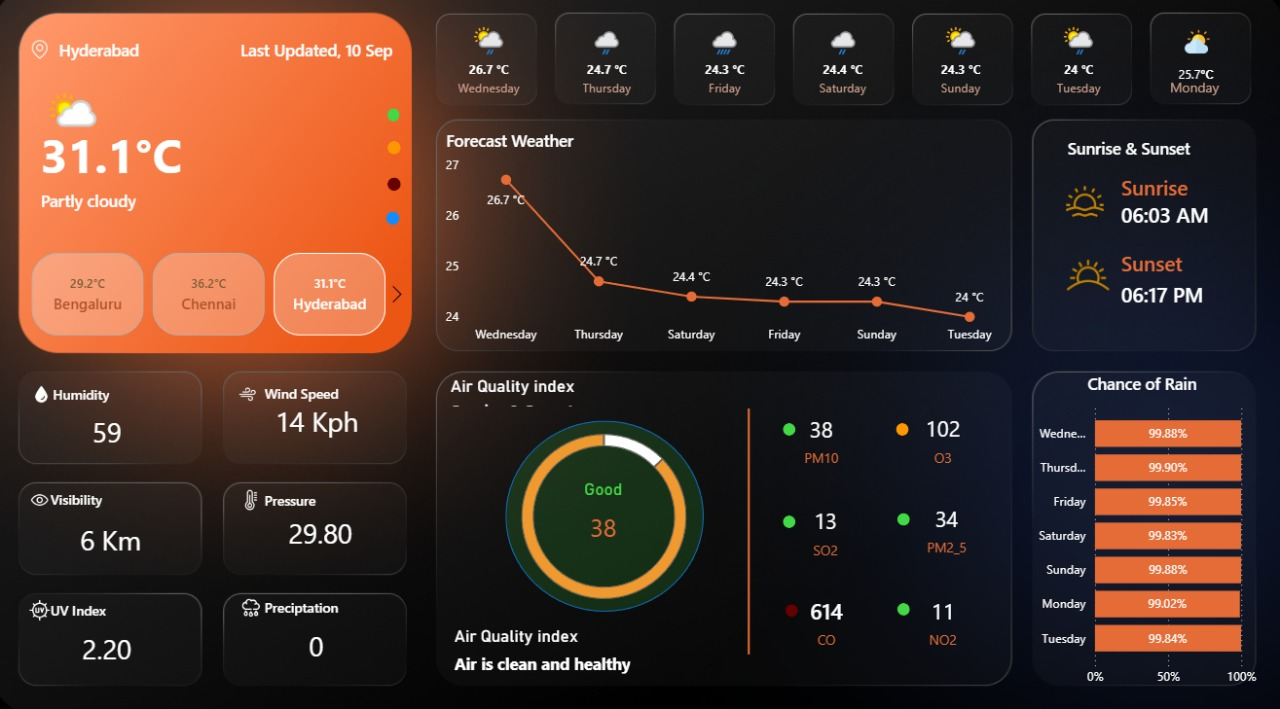

Layout of this report page (visuals, bound fields, positions):
{"tool":"powerbi","page":{"name":"Page 1","canvas":[1280,720],"ordinal":0},"visuals":[{"type":"shape","box":[507.7,426.8,196.6,189.7],"z":0},{"type":"advancedSlicerVisual","fields":{"Values":["Location.location.name"]},"box":[12.9,255.7,402.9,92.9],"z":1000},{"type":"shape","box":[47.1,111.4,201.4,102.9],"z":2000},{"type":"shape","box":[47.1,181.4,122.9,55.7],"z":3000},{"type":"shape","box":[65.7,31.4,104.3,55.7],"z":4000},{"type":"shape","box":[237.1,31.4,165.7,55.7],"z":5000},{"type":"image","box":[27.1,44.3,38.6,28.6],"z":6000},{"type":"cardVisual","fields":{"Data":["Min(Current.current.condition.icon)"]},"box":[26.5,73.6,106.2,102.5],"z":7000},{"type":"image","box":[12.1,491,67.6,30.2],"z":8000},{"type":"shape","box":[56.7,493.4,72.4,24.1],"z":9000},{"type":"shape","box":[56.7,602,103.8,25.3],"z":10000},{"type":"shape","box":[59.1,387.3,67.6,27.7],"z":11000},{"type":"shape","box":[269,387.3,89.3,25.3],"z":12000},{"type":"shape","box":[269,493.4,103.8,25.3],"z":13000},{"type":"shape","box":[269,599.6,103.8,25.3],"z":14000},{"type":"image","box":[30.2,387.3,35,27.7],"z":15000},{"type":"image","box":[235.3,387.3,33.8,27.7],"z":16000},{"type":"image","box":[21.7,599.6,48.3,31.4],"z":17000},{"type":"image","box":[235.3,491,41,30.2],"z":18000},{"type":"image","box":[223.2,597.2,65.1,31.4],"z":19000},{"type":"card","fields":{"Values":["Sum(Current.current.humidity)"]},"box":[76.7,412.8,71.1,54.4],"z":20000},{"type":"card","fields":{"Values":["_Measures.Wind_Speed"]},"box":[270.6,401.7,101.8,54.4],"z":21000},{"type":"card","fields":{"Values":["Sum(Current.current.pressure_in)"]},"box":[276.1,506.3,96.2,66.9],"z":22000},{"type":"card","fields":{"Values":["Sum(Current.current.precip_in)"]},"box":[284.5,624.8,71.1,54.4],"z":23000},{"type":"card","fields":{"Values":["Sum(Current.current.uv)"]},"box":[76.7,627.6,71.1,54.4],"z":24000},{"type":"card","fields":{"Values":["_Measures.Visibility"]},"box":[72.5,521.6,87.9,51.6],"z":25000},{"type":"advancedSlicerVisual","fields":{"Values":["Forecast_day.Day_Name"]},"box":[432.3,25.1,825.6,86.5],"z":26000},{"type":"lineChart","title":"Forecast Weather","fields":{"Y":["Sum(Forecast_day.forecast.forecastday.day.avgtemp_c)"],"Category":["Forecast_day.Day_Name"]},"box":[443.5,138.1,566.2,221.7],"z":27000},{"type":"shape","box":[1065.5,138.1,161.8,37.7],"z":28000},{"type":"shape","box":[1118.5,189.7,161.8,65.5],"z":29000},{"type":"shape","box":[1118.5,269.2,161.8,65.5],"z":30000},{"type":"shape","box":[1118.5,163.2,161.8,65.5],"z":31000},{"type":"shape","box":[1118.5,237.1,161.8,65.5],"z":32000},{"type":"image","box":[1055.7,185.5,53,47.4],"z":33000},{"type":"image","box":[1051.6,249.6,66.9,65.5],"z":34000},{"type":"hundredPercentStackedBarChart","title":"Chance of Rain","fields":{"Y":["Sum(Forecast_hour.forecast.forecastday.hour.chance_of_rain)","Current.Left_Value_rain"],"Category":["Forecast_day.Day_Name"]},"box":[1020.9,379.3,237.1,320.8],"z":35000},{"type":"image","box":[1160.3,33.5,66.9,34.9],"z":36000},{"type":"textbox","box":[1170.1,68.3,110.2,108.8],"z":37000},{"type":"textbox","box":[1161.7,82.3,75.3,29.3],"z":38000},{"type":"shape","title":"Air Quality index","box":[453.3,382.1,152,30.7],"z":39000},{"type":"card","fields":{"Values":["Sum(Current.current.air_quality.co)"]},"box":[790.8,594.1,72.5,65.5],"z":40000},{"type":"card","fields":{"Values":["Sum(Current.current.air_quality.o3)"]},"box":[895.4,412.8,93.4,65.5],"z":41000},{"type":"card","fields":{"Values":["Sum(Current.current.air_quality.pm10)"]},"box":[774,412.8,93.4,66.9],"z":42000},{"type":"card","fields":{"Values":["Sum(Current.current.air_quality.so2)"]},"box":[782.4,504.9,85.1,65.5],"z":43000},{"type":"card","fields":{"Values":["Sum(Current.current.air_quality.pm2_5)"]},"box":[902.3,502.1,86.5,65.5],"z":44000},{"type":"card","fields":{"Values":["Sum(Current.current.air_quality.no2)"]},"box":[895.4,594.1,93.4,65.5],"z":45000},{"type":"shape","box":[673.6,415.6,152,244.1],"z":46000},{"type":"shape","box":[782.4,429.6,12.6,12.6],"z":47000},{"type":"shape","box":[785.2,609.5,12.6,12.6],"z":48000},{"type":"shape","box":[782.4,521.6,12.6,12.6],"z":49000},{"type":"shape","box":[895.4,429.6,12.6,12.6],"z":50000},{"type":"shape","box":[896.8,518.8,12.6,12.6],"z":51000},{"type":"shape","box":[896.8,608.1,12.6,12.6],"z":52000},{"type":"card","fields":{"Values":["Sum(Current.current.air_quality.pm10)"]},"box":[550.9,485.3,107.4,80.9],"z":53000},{"type":"donutChart","fields":{"Y":["Sum(Current.current.air_quality.pm10)","_Measures.Left_value_PM"]},"box":[457.4,415.6,297.1,214.8],"z":54000},{"type":"shape","title":"Air Quality index","box":[457.4,630.4,280.3,48.8],"z":55000},{"type":"shape","box":[390.9,117,12.1,13.3],"z":56000},{"type":"shape","box":[390.9,149.6,13.3,13.3],"z":56001},{"type":"shape","box":[390.9,185.8,13.3,13.3],"z":56002},{"type":"shape","box":[389.7,219.6,13.3,13.3],"z":56003}]}

Visuals, with their boxes in screenshot pixels (x1, y1, x2, y2), scaled from the page's 1280x720 canvas onto the 1280x709 screenshot:
shape: BBox(508, 420, 704, 607)
advancedSlicerVisual - Location.location.name: BBox(13, 252, 416, 343)
shape: BBox(47, 110, 248, 211)
shape: BBox(47, 179, 170, 233)
shape: BBox(66, 31, 170, 86)
shape: BBox(237, 31, 403, 86)
image: BBox(27, 44, 66, 72)
cardVisual - Min(Current.current.condition.icon): BBox(26, 72, 133, 173)
image: BBox(12, 483, 80, 513)
shape: BBox(57, 486, 129, 510)
shape: BBox(57, 593, 160, 618)
shape: BBox(59, 381, 127, 409)
shape: BBox(269, 381, 358, 406)
shape: BBox(269, 486, 373, 511)
shape: BBox(269, 590, 373, 615)
image: BBox(30, 381, 65, 409)
image: BBox(235, 381, 269, 409)
image: BBox(22, 590, 70, 621)
image: BBox(235, 483, 276, 513)
image: BBox(223, 588, 288, 619)
card - Sum(Current.current.humidity): BBox(77, 406, 148, 460)
card - _Measures.Wind_Speed: BBox(271, 396, 372, 449)
card - Sum(Current.current.pressure_in): BBox(276, 499, 372, 564)
card - Sum(Current.current.precip_in): BBox(284, 615, 356, 669)
card - Sum(Current.current.uv): BBox(77, 618, 148, 672)
card - _Measures.Visibility: BBox(72, 514, 160, 564)
advancedSlicerVisual - Forecast_day.Day_Name: BBox(432, 25, 1258, 110)
"Forecast Weather" lineChart: BBox(444, 136, 1010, 354)
shape: BBox(1066, 136, 1227, 173)
shape: BBox(1118, 187, 1279, 251)
shape: BBox(1118, 265, 1279, 330)
shape: BBox(1118, 161, 1279, 225)
shape: BBox(1118, 233, 1279, 298)
image: BBox(1056, 183, 1109, 229)
image: BBox(1052, 246, 1118, 310)
"Chance of Rain" hundredPercentStackedBarChart: BBox(1021, 374, 1258, 689)
image: BBox(1160, 33, 1227, 67)
textbox: BBox(1170, 67, 1279, 174)
textbox: BBox(1162, 81, 1237, 110)
"Air Quality index" shape: BBox(453, 376, 605, 406)
card - Sum(Current.current.air_quality.co): BBox(791, 585, 863, 650)
card - Sum(Current.current.air_quality.o3): BBox(895, 406, 989, 471)
card - Sum(Current.current.air_quality.pm10): BBox(774, 406, 867, 472)
card - Sum(Current.current.air_quality.so2): BBox(782, 497, 868, 562)
card - Sum(Current.current.air_quality.pm2_5): BBox(902, 494, 989, 559)
card - Sum(Current.current.air_quality.no2): BBox(895, 585, 989, 650)
shape: BBox(674, 409, 826, 650)
shape: BBox(782, 423, 795, 435)
shape: BBox(785, 600, 798, 613)
shape: BBox(782, 514, 795, 526)
shape: BBox(895, 423, 908, 435)
shape: BBox(897, 511, 909, 523)
shape: BBox(897, 599, 909, 611)
card - Sum(Current.current.air_quality.pm10): BBox(551, 478, 658, 558)
donutChart - Sum(Current.current.air_quality.pm10) x _Measures.Left_value_PM: BBox(457, 409, 754, 621)
"Air Quality index" shape: BBox(457, 621, 738, 669)
shape: BBox(391, 115, 403, 128)
shape: BBox(391, 147, 404, 160)
shape: BBox(391, 183, 404, 196)
shape: BBox(390, 216, 403, 229)
